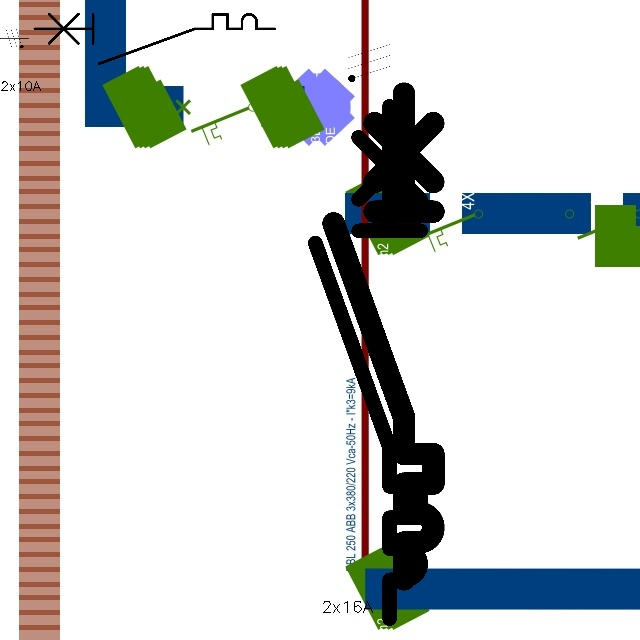interruptor_termomagnetico: (302, 92, 434, 631), (321, 81, 446, 592), (28, 8, 280, 69)
